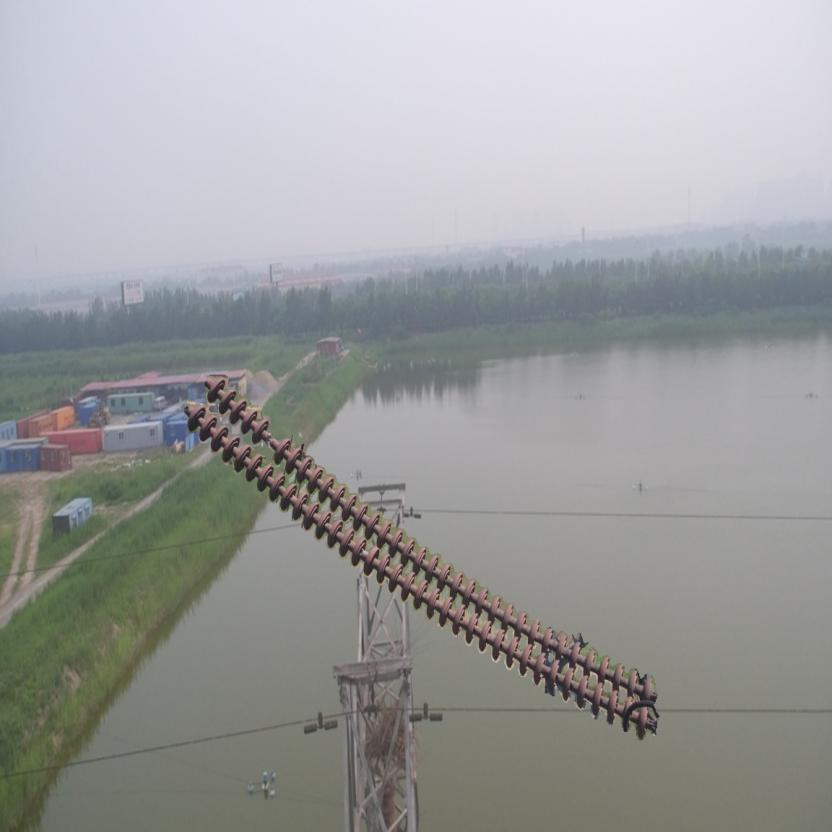defect: (249, 412, 293, 465)
